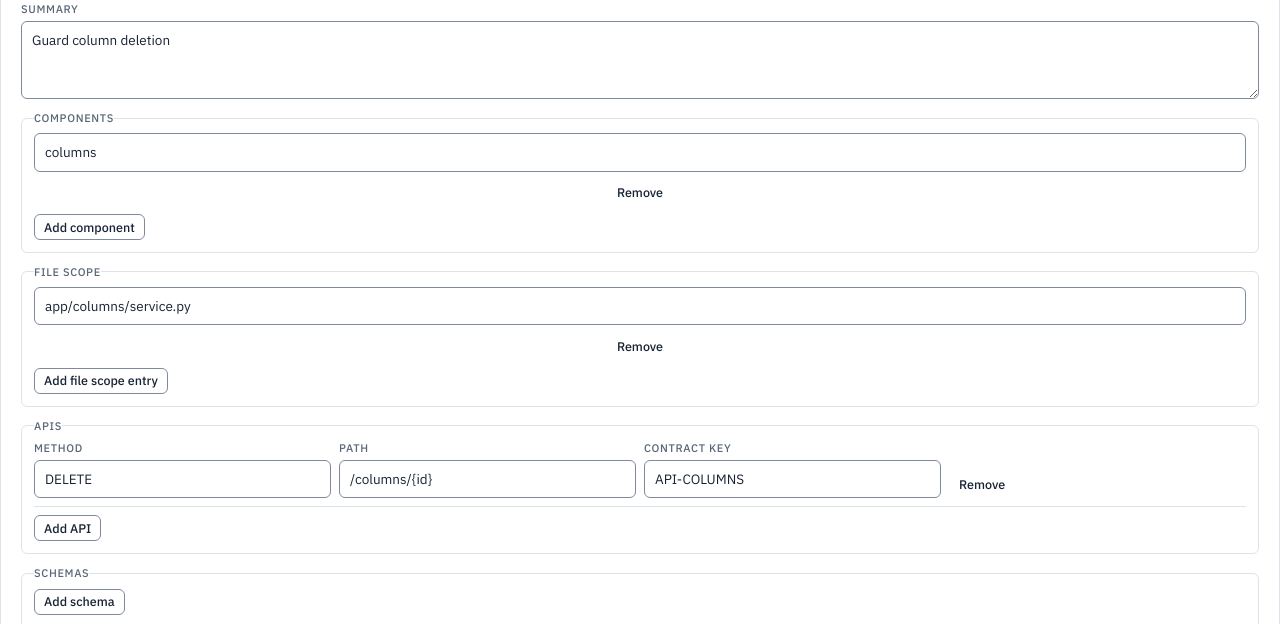
Test: ImplementationSpecVersionEditor › saves form edits as the body and reports the new spec id
Step 1. Click the button "Add file scope entry" → coordinates (101, 380), box [34,368,168,394]
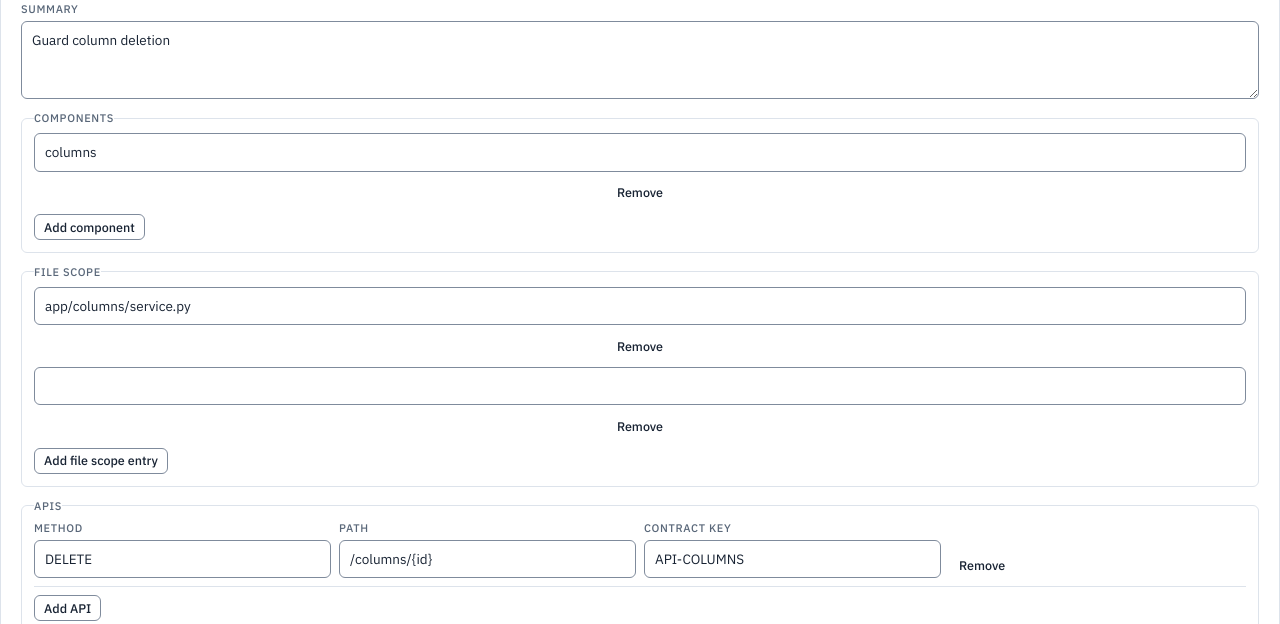
Step 2. Type "app/columns/routes.py" into the field named "file scope entry 2" → coordinates (640, 386), box [34,367,1246,405]
(page scrolled)
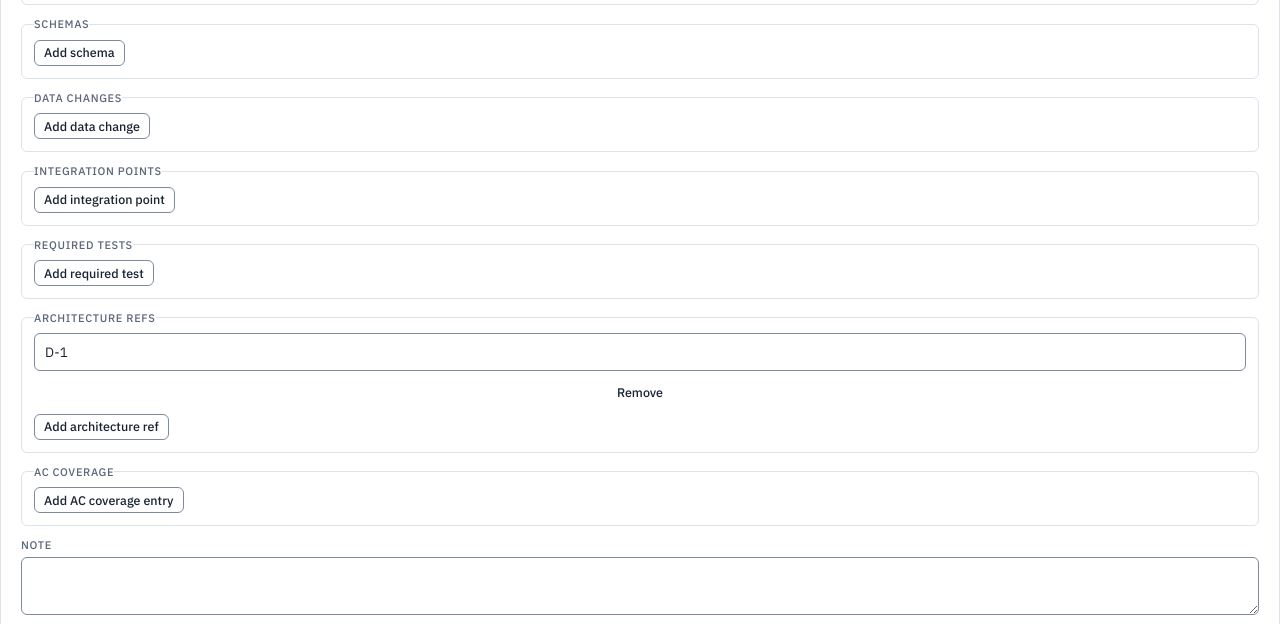
Step 3. Click the button "Add required test" → coordinates (94, 273), box [34,260,154,286]
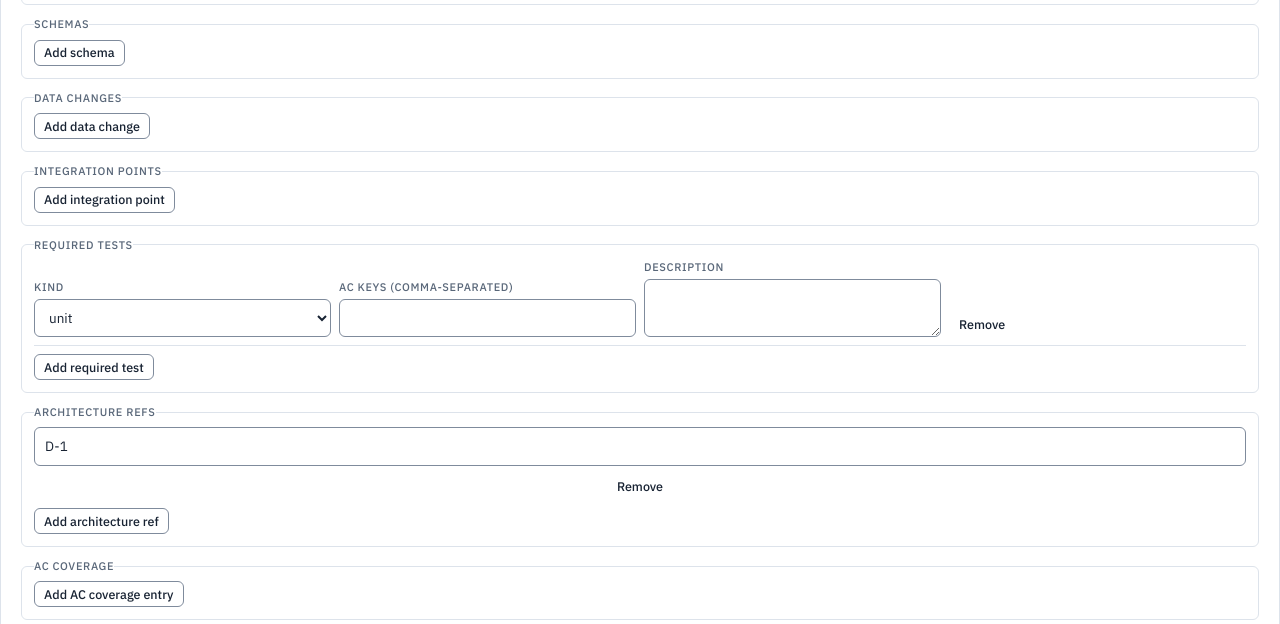
Step 4. Select "api" in the dropdown named "required test 1 Kind" → coordinates (182, 318), box [34,299,331,337]
Step 5. Type "AC-COL-3, AC-COL-4" into the field named "required test 1 AC keys (comma-separated)" → coordinates (488, 318), box [339,299,636,337]
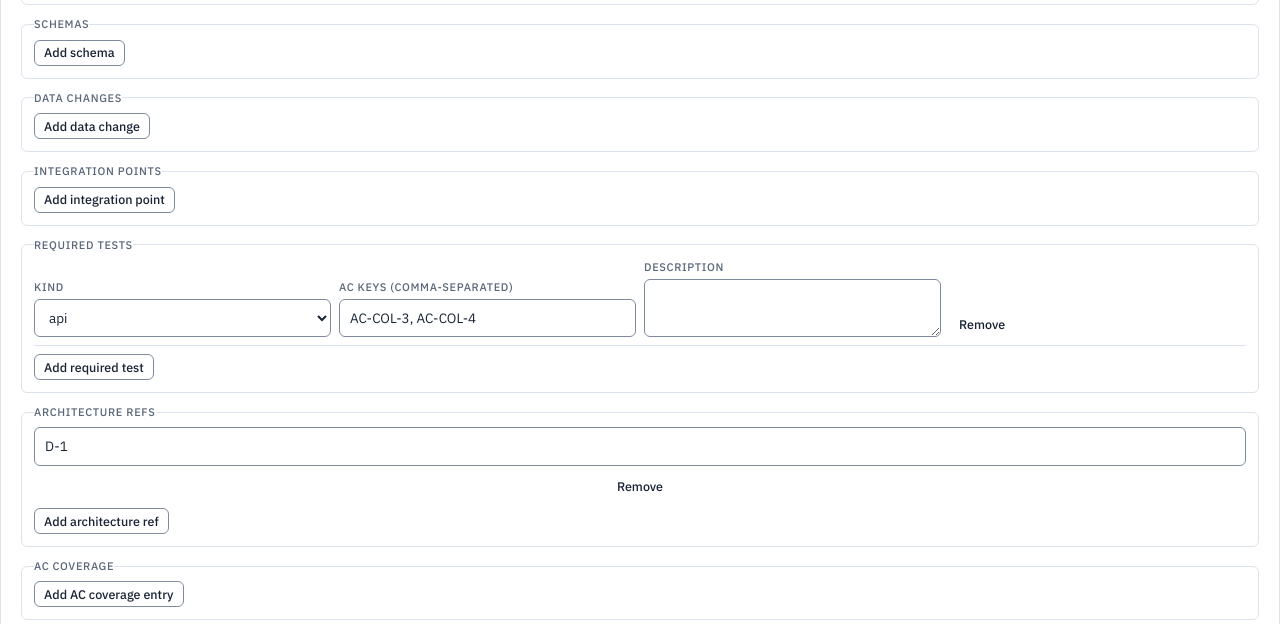
Step 6. Type "DELETE returns 409" into the text box named "required test 1 Description" → coordinates (792, 308), box [644,278,941,337]
(page scrolled)
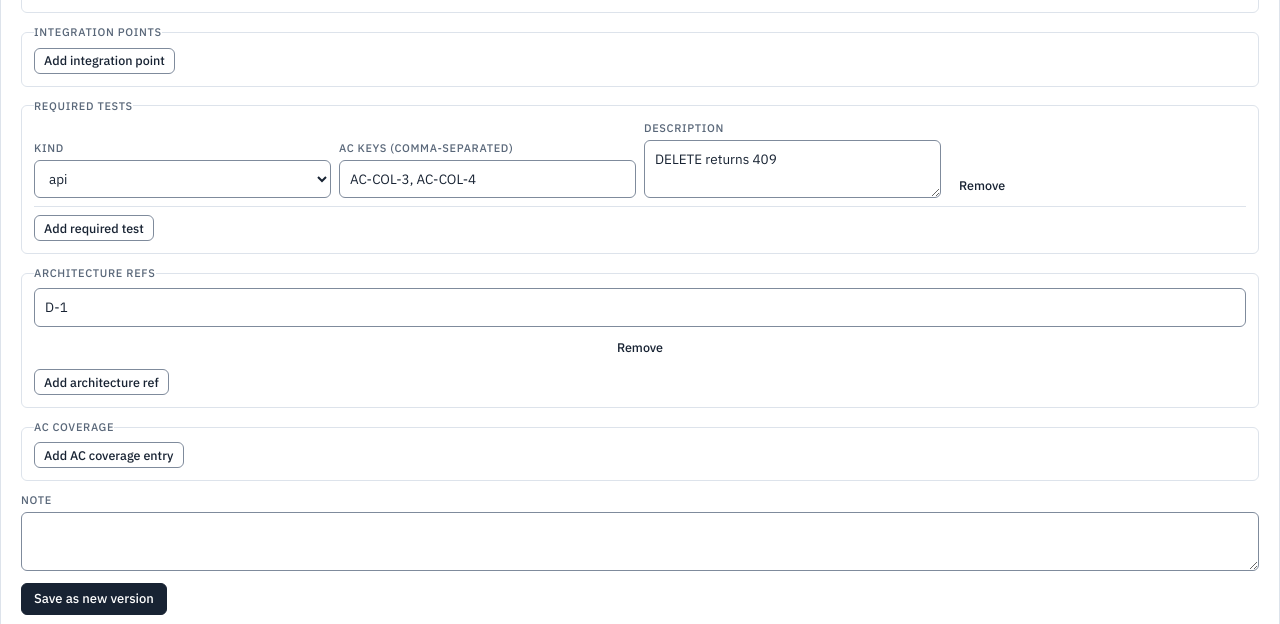
Step 7. Click the button "Save as new version" → coordinates (94, 599), box [21,583,167,615]
(page scrolled)
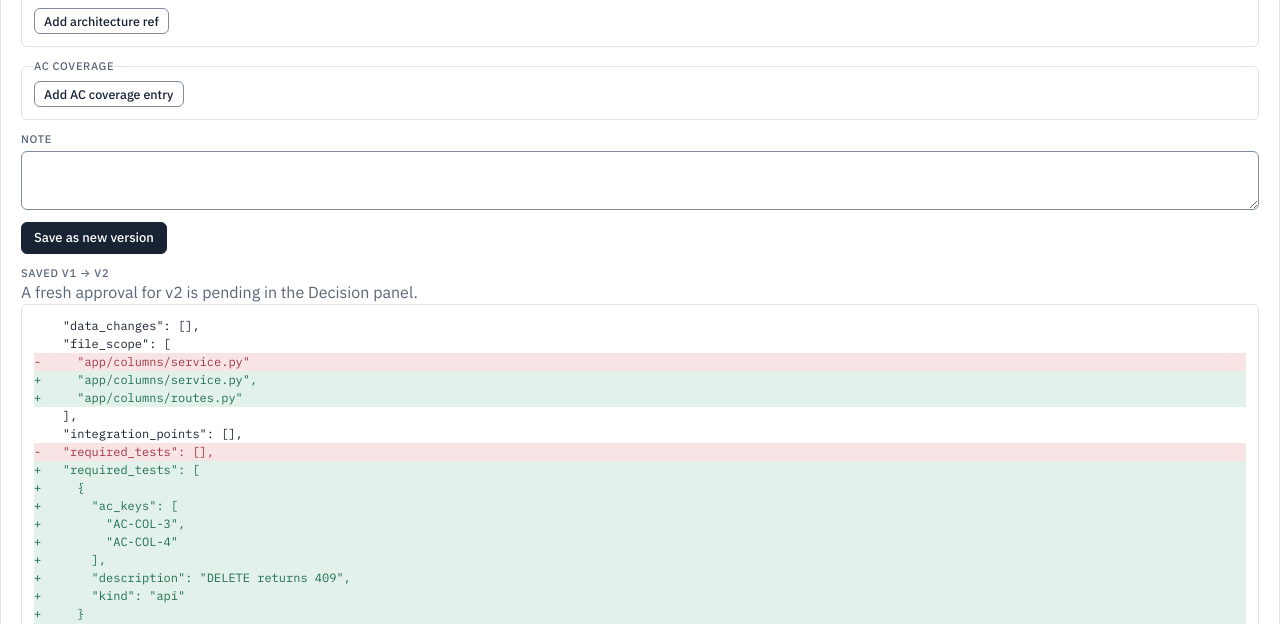
Result: the text "Saved v1 → v2" is shown at [21,266,109,280]
